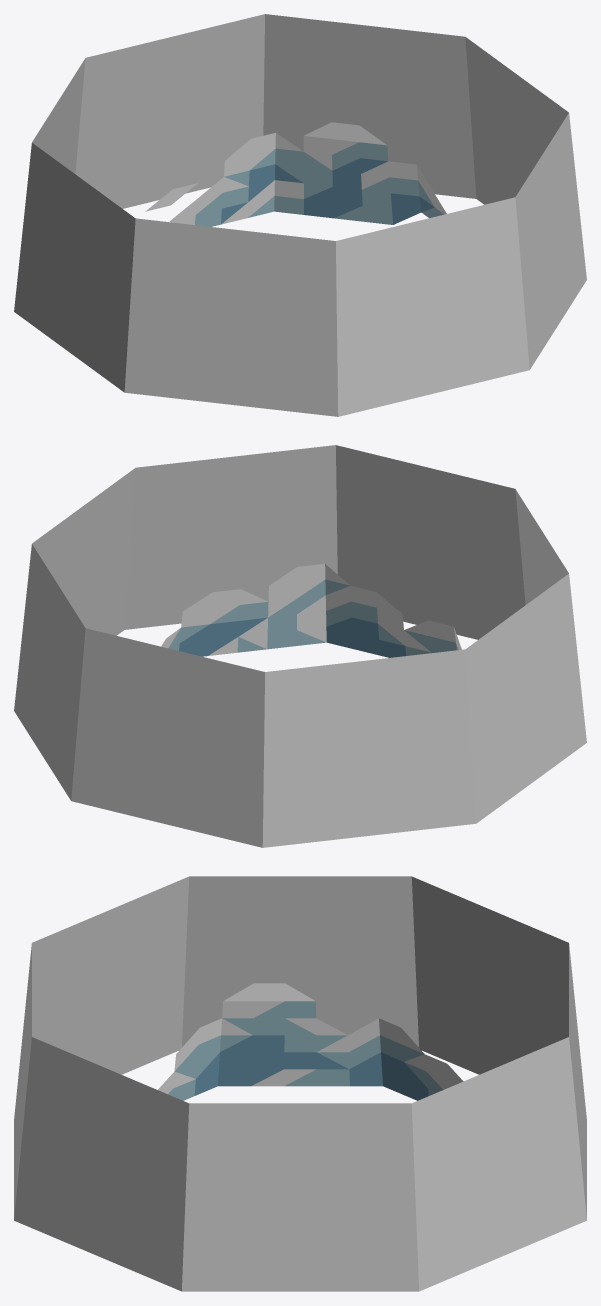
File: clouds.fbx
The picture shows the model from 3 angles, top to bottom: view 1: azimuth 30°, elevation 25°; view 2: azimuth 150°, elevation 25°; view 3: azimuth 270°, elevation 25°; orthographic projection. The views are drawn at different scales.
Visible parts, largest first — view 1: cylinder, ring1; view 2: cylinder, ring1; view 3: cylinder, ring1.
Boxes of the visible parts, x1,y1,x2,y2 form: cylinder: [14, 14, 586, 416]; ring1: [145, 122, 446, 226]; cylinder: [14, 445, 586, 847]; ring1: [161, 563, 461, 657]; cylinder: [14, 876, 586, 1291]; ring1: [158, 983, 463, 1100].
Bounding box in the file's own units: 1150 × 400 × 1150.
1 material, 1 textured.
